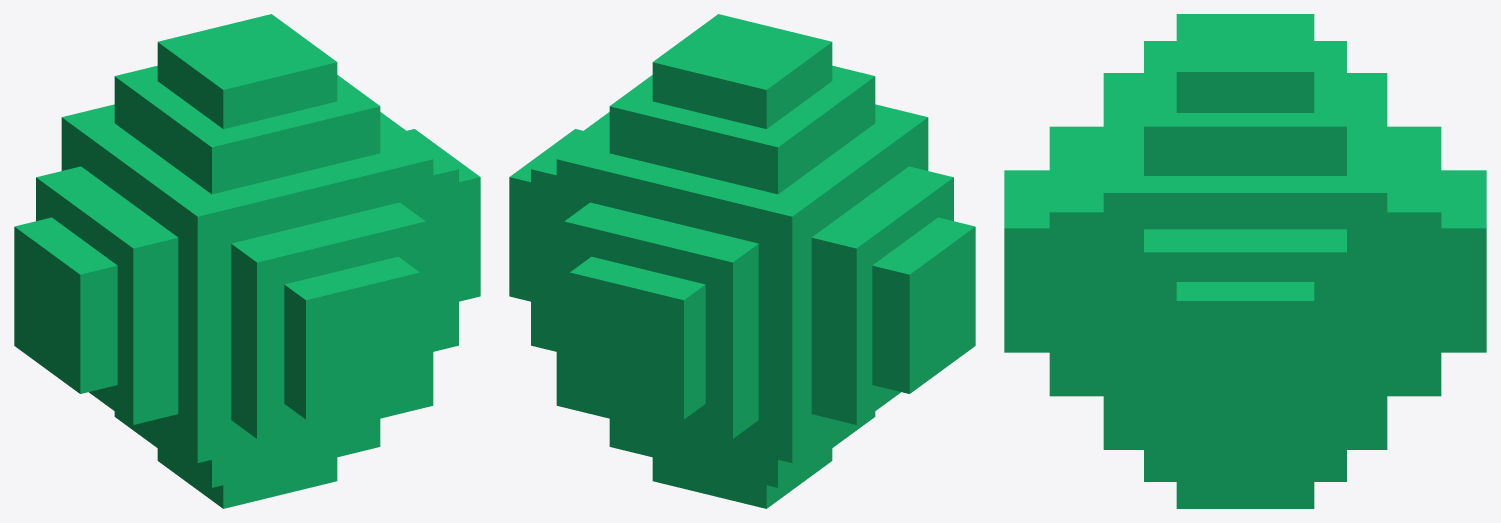
The model's file is cubeHD.obj.
3 views of the same model, side by side, from view 1: azimuth 30°, elevation 25°; view 2: azimuth 150°, elevation 25°; view 3: azimuth 270°, elevation 25° (orthographic). The views are drawn at different scales.
Parts seen in each view (by area): view 1: Cube; view 2: Cube; view 3: Cube.
Boxes of the visible parts, <box> form: Cube: <box>14,14,480,508</box>; Cube: <box>509,14,975,508</box>; Cube: <box>1004,14,1486,508</box>.
Size of the model in its own units: 3.4 by 3.4 by 3.4.
